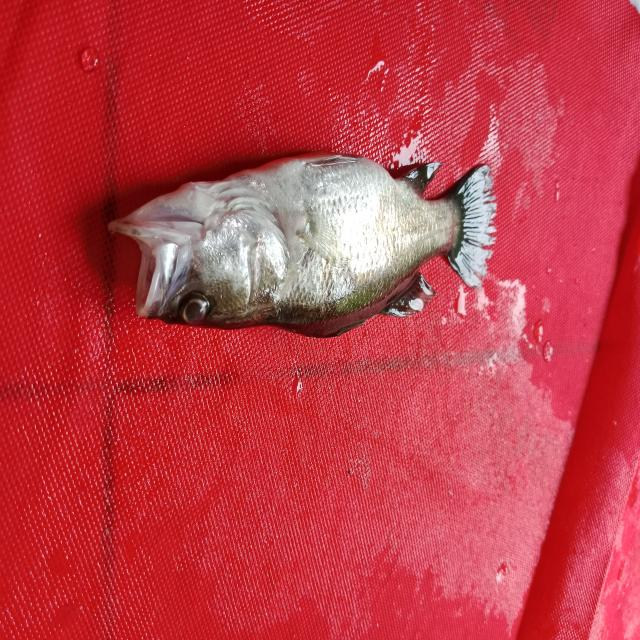ikan: (102, 126, 488, 332)
